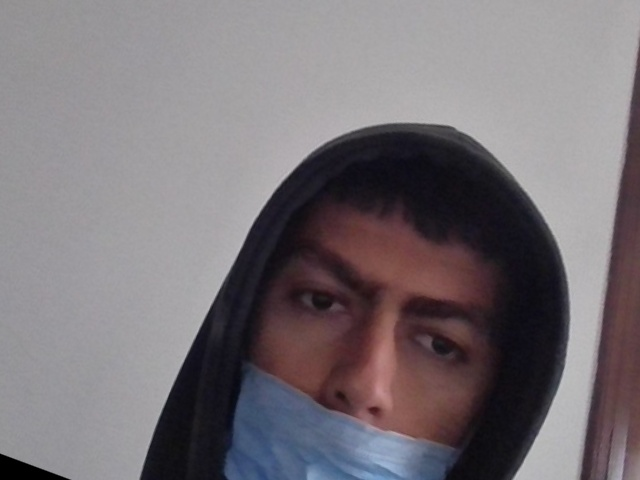mask_weared_incorrect: (203, 152, 507, 480)
